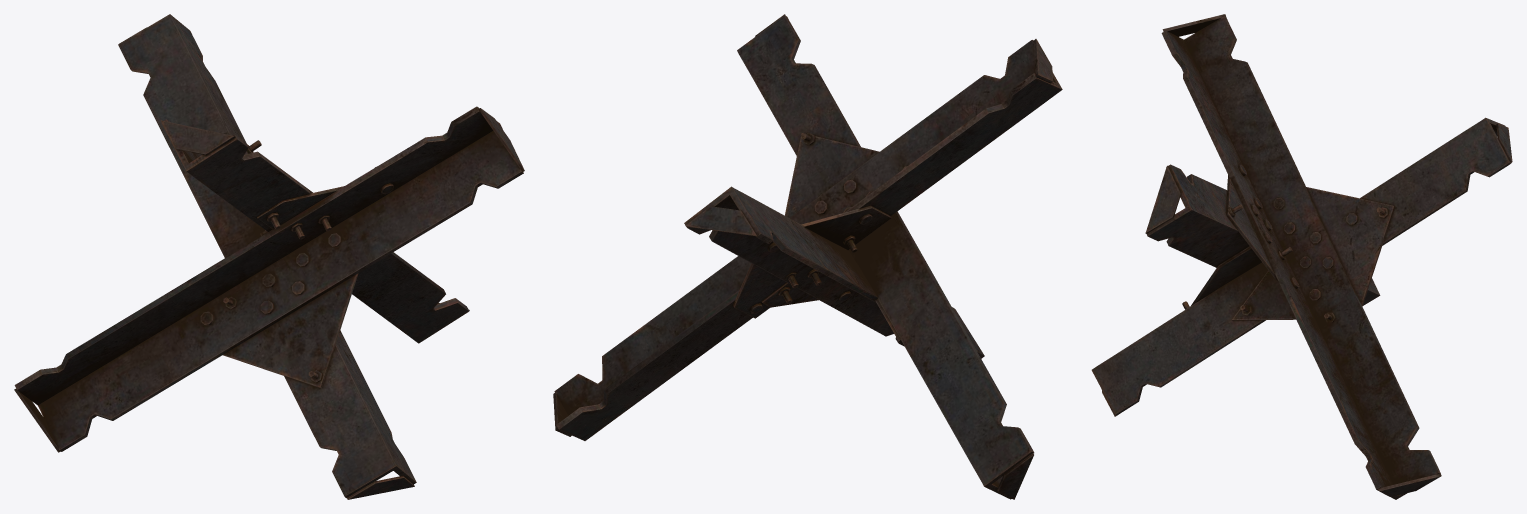
The picture shows the model from 3 angles, left to right: view 1: azimuth 30°, elevation 25°; view 2: azimuth 150°, elevation 25°; view 3: azimuth 270°, elevation 25°; orthographic projection. The views are drawn at different scales.
Visible parts, largest first — view 1: defaultMaterial; view 2: defaultMaterial; view 3: defaultMaterial.
Boxes of the visible parts, x1,y1,x2,y2 form: defaultMaterial: [14, 14, 524, 499]; defaultMaterial: [553, 14, 1062, 499]; defaultMaterial: [1091, 14, 1512, 499].
Bounding box in the file's own units: 1.77 × 1.38 × 1.57.
Materials: 1 (1 with a texture image).
